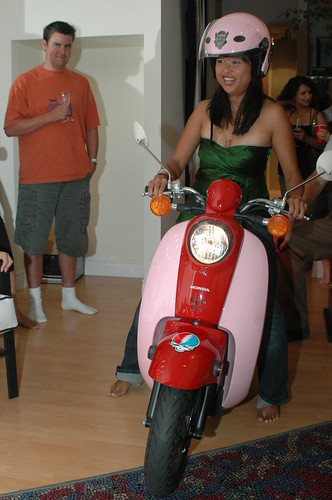helmet: (197, 5, 274, 53)
